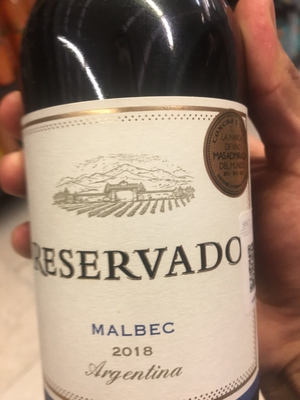reservado malbec: (19, 22, 269, 400)
